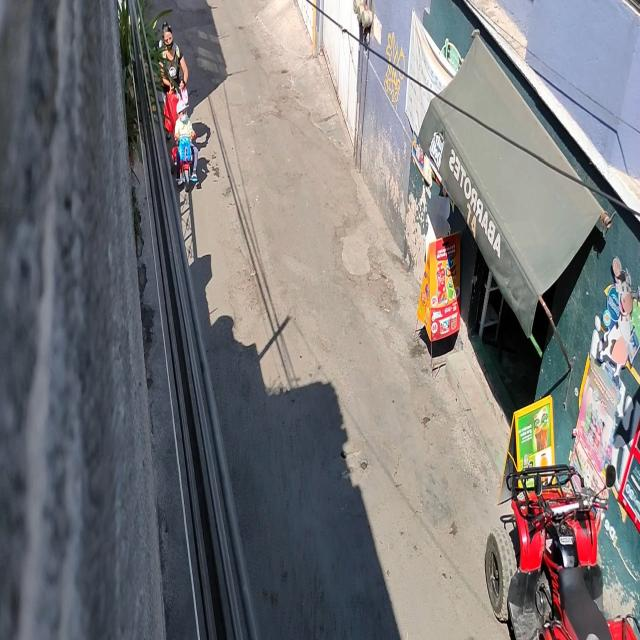adult: (157, 22, 189, 149)
child: (171, 100, 201, 190)
